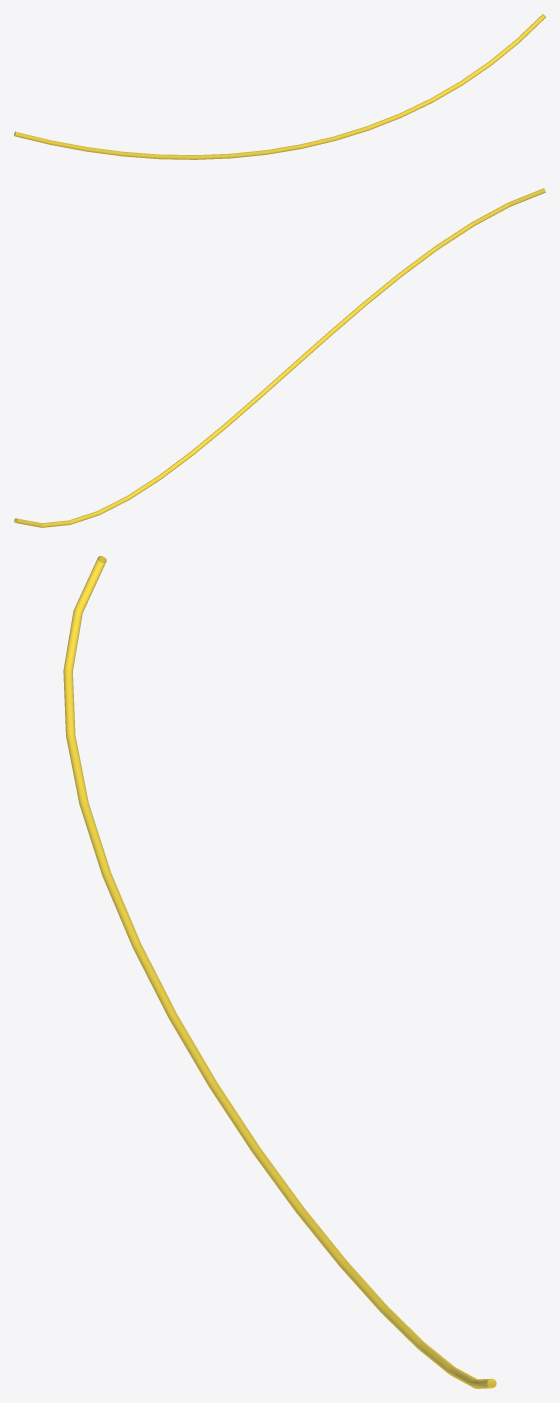
The model's file is Event_100608114_track_51.fbx.
The picture shows the model from 3 angles, top to bottom: view 1: azimuth 30°, elevation 25°; view 2: azimuth 210°, elevation 25°; view 3: azimuth 270°, elevation 25°; orthographic projection. The views are drawn at different scales.
Visible parts, largest first — view 1: Model; view 2: Model; view 3: Model.
Part boxes in pixels (bbox=[...]): Model: bbox=[14, 14, 545, 159]; Model: bbox=[14, 188, 545, 527]; Model: bbox=[63, 556, 496, 1388].
Bounding box in the file's own units: 6.08 × 1.31 × 1.82.
